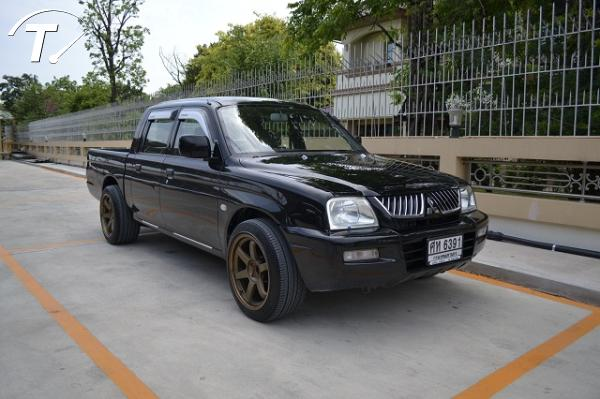pickup: (85, 95, 492, 325)
